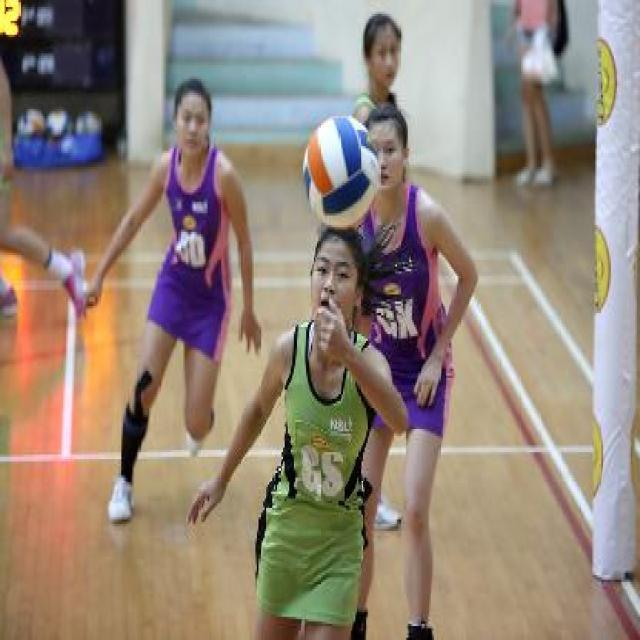volleyball: (302, 117, 381, 230)
